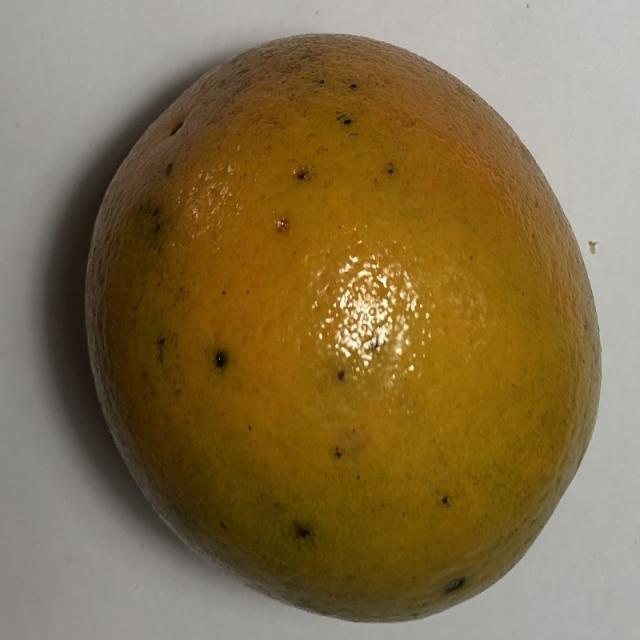blackspot: (49, 26, 610, 633)
